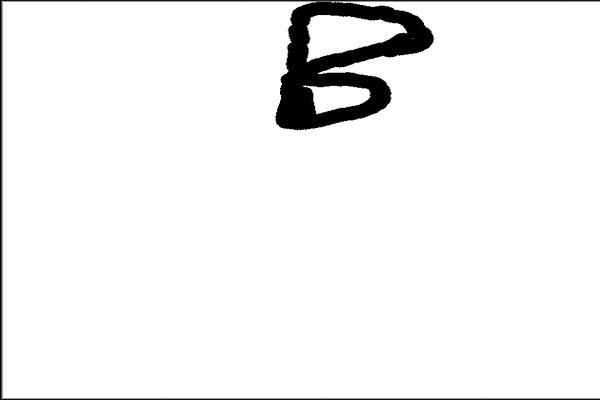B: (266, 1, 437, 136)
